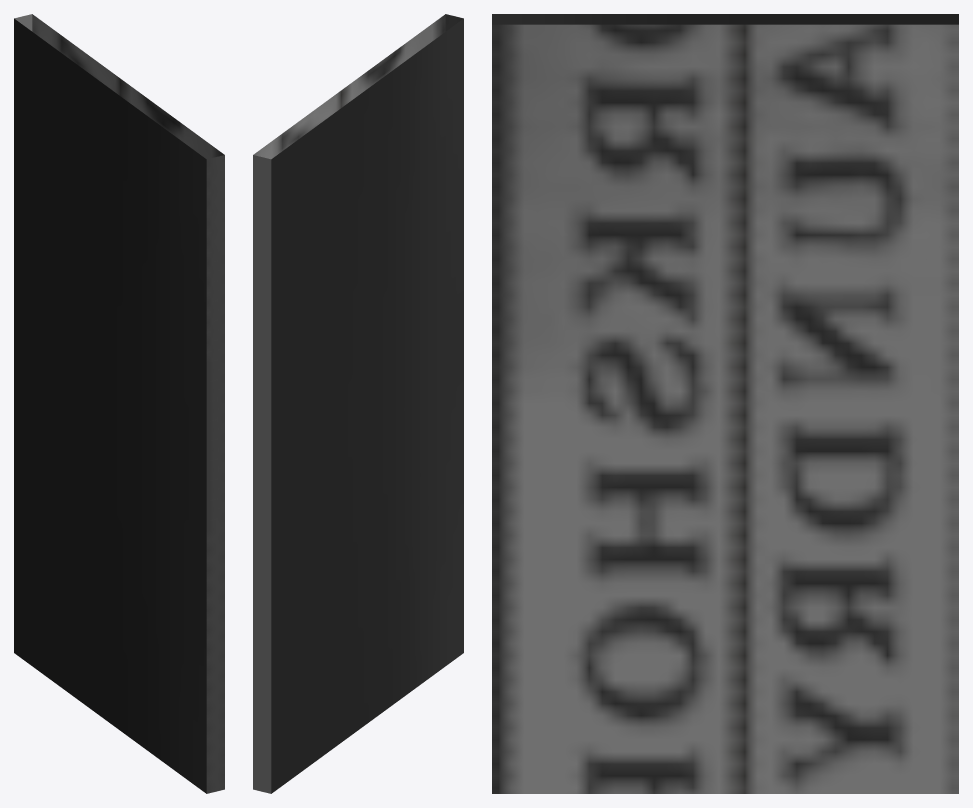
File: section-1.obj
3 renders of one model, left to right at view 1: azimuth 30°, elevation 25°; view 2: azimuth 150°, elevation 25°; view 3: azimuth 270°, elevation 25°, orthographic. The views are drawn at different scales.
Size of the model in its own units: 0.03 by 1 by 0.55.
Materials: 1 (1 with a texture image).
